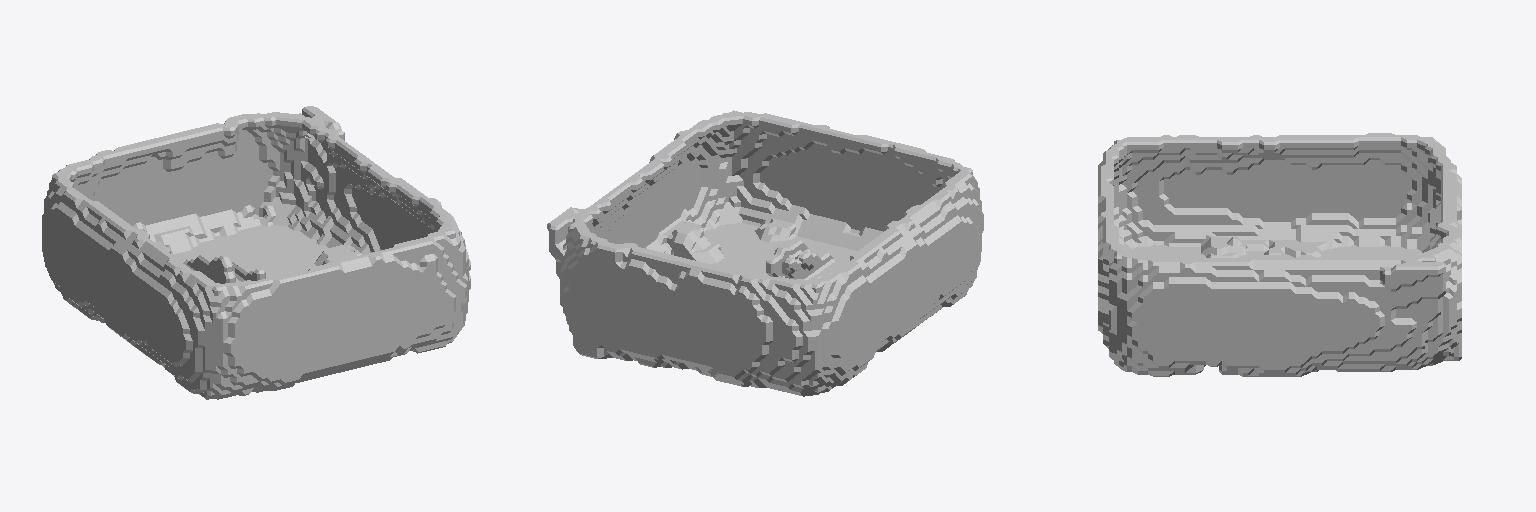
File: Input_surface_mesh.obj
3 views of the same model, side by side, from view 1: azimuth 30°, elevation 25°; view 2: azimuth 150°, elevation 25°; view 3: azimuth 270°, elevation 25° (orthographic).
Size of the model in its own units: 4.96 by 1.92 by 5.52.